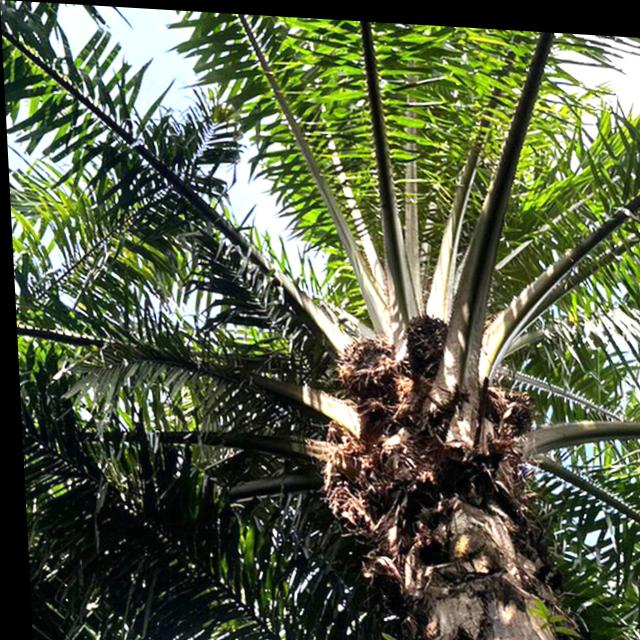unripe: (324, 328, 395, 393), (398, 304, 451, 370)
